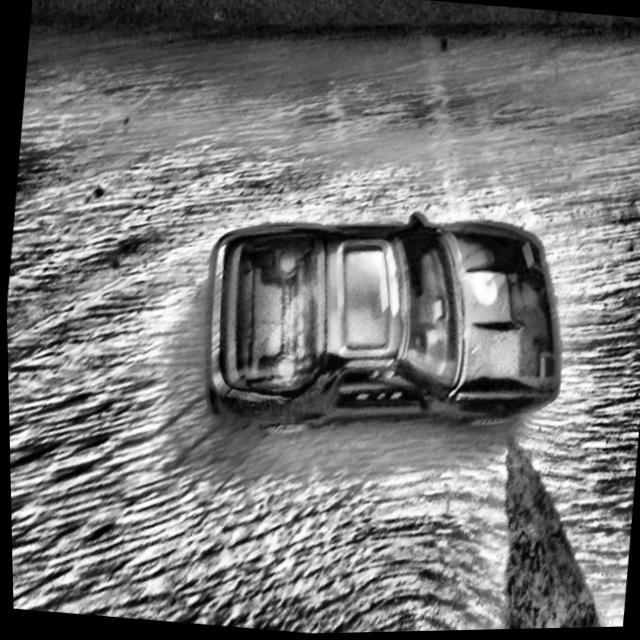car: (192, 191, 576, 462)
